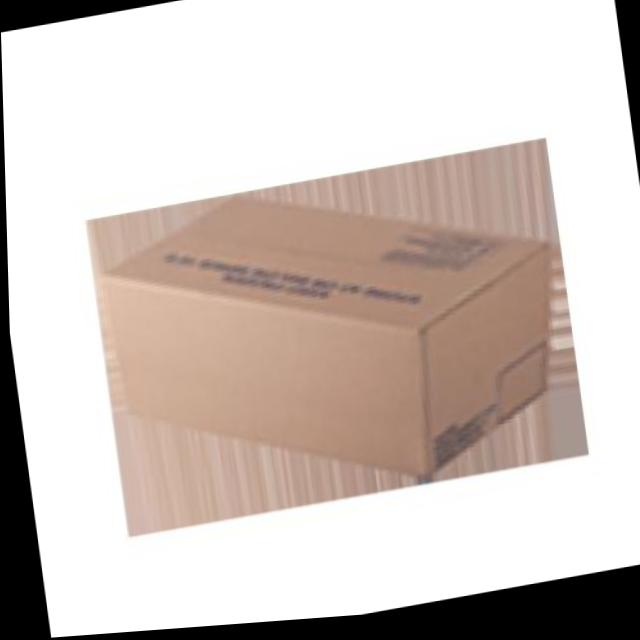box: (62, 126, 593, 575)
